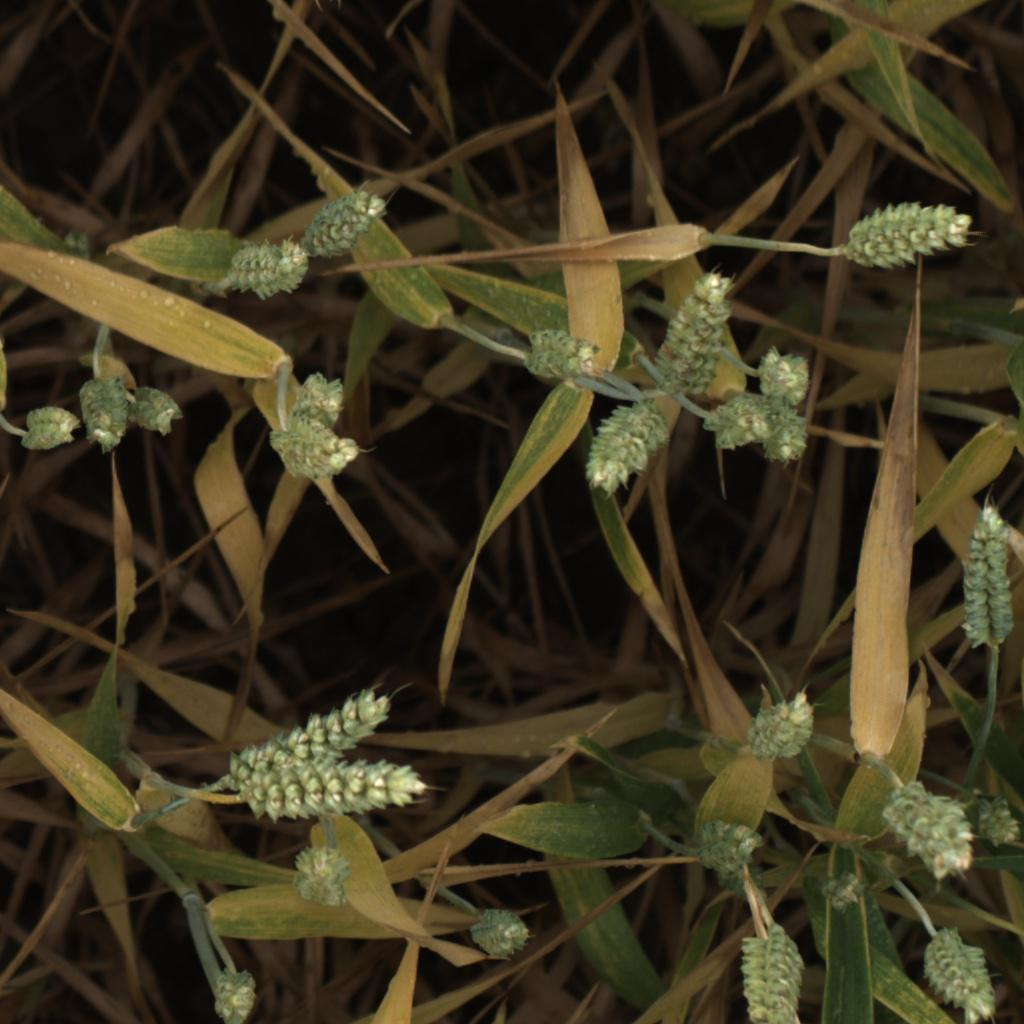0-0: (219, 681, 391, 803), (233, 750, 429, 822), (653, 262, 737, 398), (839, 194, 978, 275), (955, 491, 1020, 652), (878, 778, 978, 879), (581, 398, 674, 496), (727, 922, 815, 1024), (917, 926, 1002, 1024), (265, 416, 364, 487), (301, 184, 391, 259), (742, 686, 823, 764), (224, 236, 313, 304), (521, 320, 605, 389), (283, 368, 352, 441), (459, 899, 536, 963), (286, 841, 356, 910), (688, 810, 767, 871), (703, 394, 776, 458), (198, 959, 267, 1024), (78, 373, 130, 459), (12, 398, 83, 457), (123, 383, 191, 441), (758, 407, 811, 474), (758, 341, 813, 402), (970, 791, 1024, 853), (814, 867, 869, 922), (56, 227, 99, 270)
